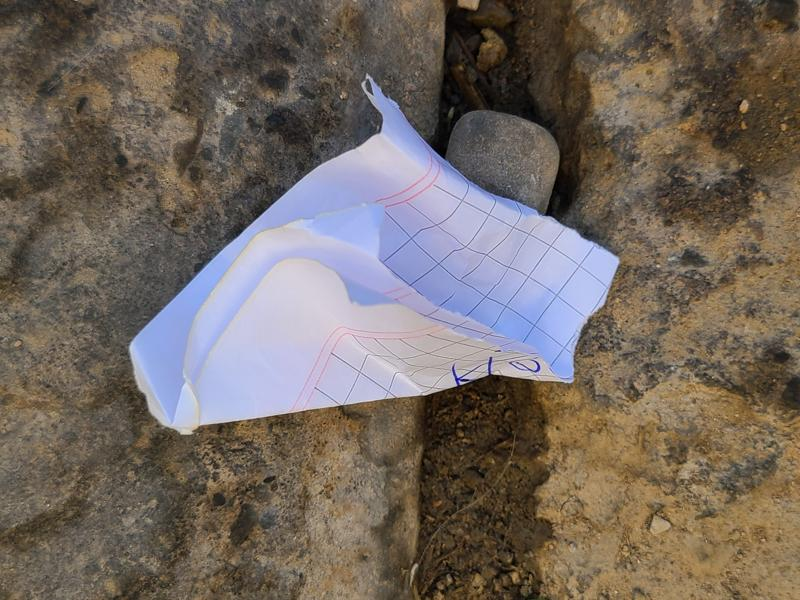papel: (127, 79, 621, 435)
